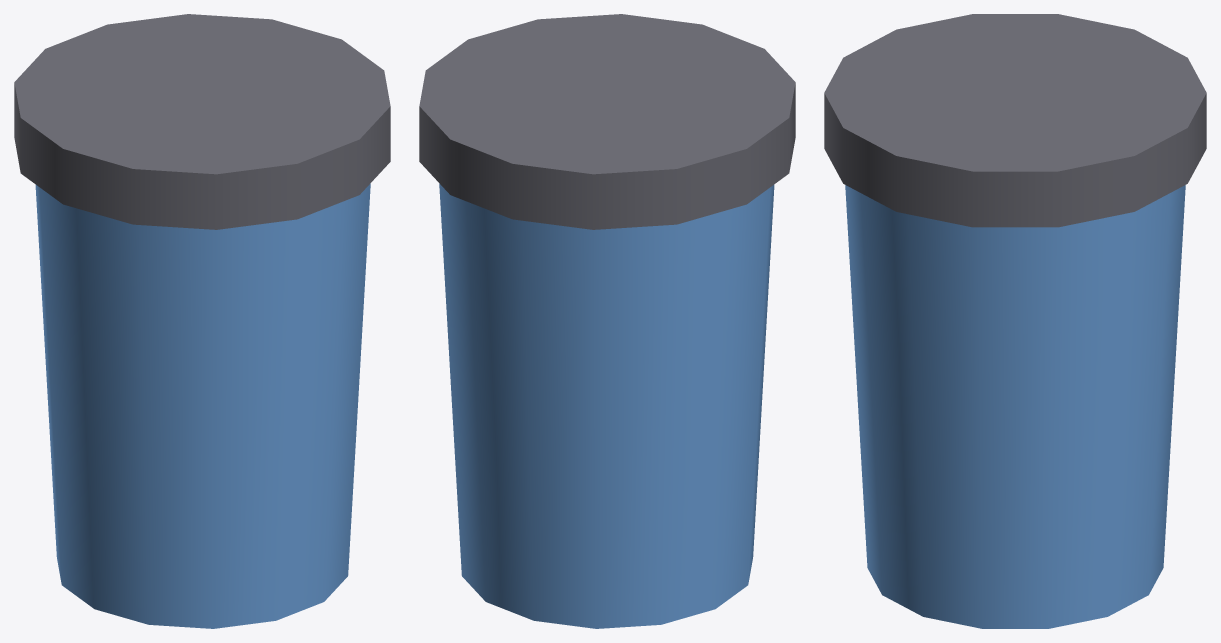
Rendered from tong1.glb.
The picture shows the model from 3 angles, left to right: view 1: azimuth 30°, elevation 25°; view 2: azimuth 150°, elevation 25°; view 3: azimuth 270°, elevation 25°; orthographic projection.
Visible parts, largest first — view 1: tong1; view 2: tong1; view 3: tong1.
Part boxes in pixels (x1,y1,x2,y2): tong1: (14,14,390,628); tong1: (419,14,795,628); tong1: (824,14,1206,628).
Bounding box in the file's own units: 0.3022 × 0.425 × 0.31.
